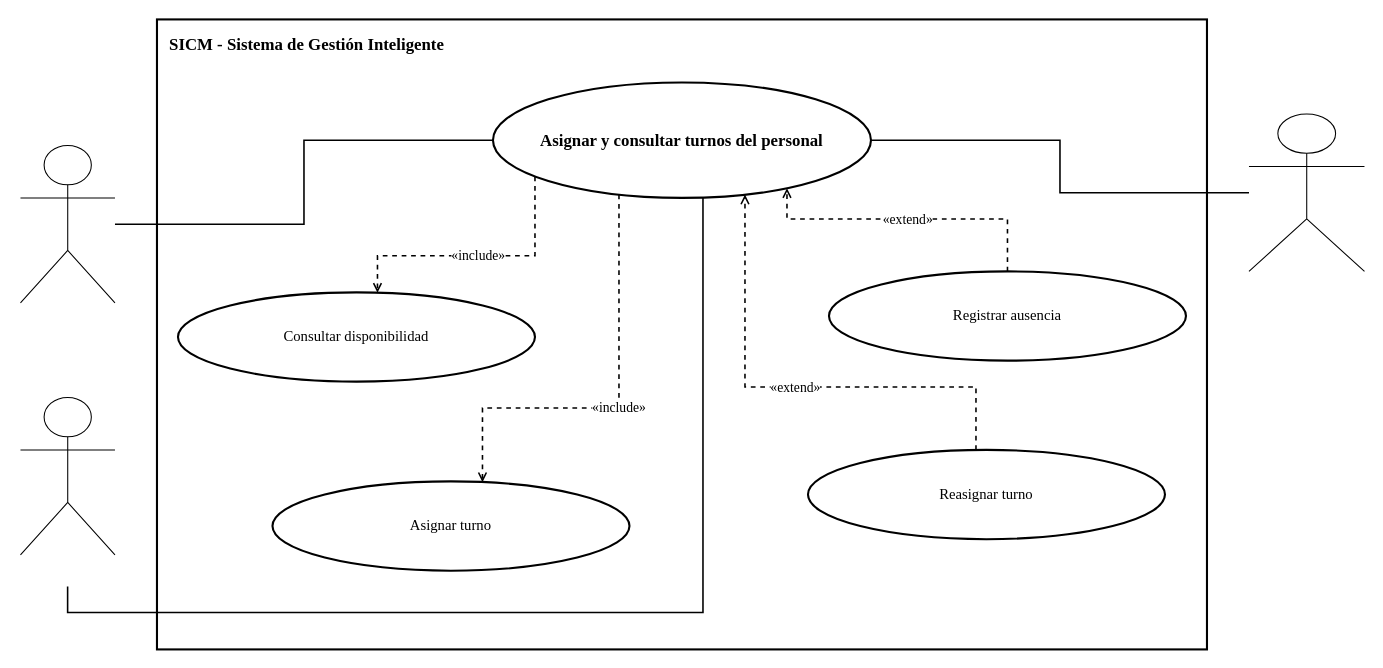
The diagram is 1383 pixels wide and 668 high, and some of its shapes have lost their labels. Here are the shapes that lost their labels. From the top down, the box of each, then its label:
(1248, 113, 1364, 271): Personal médico
(19, 144, 115, 303): Coordinador(a)
(19, 396, 115, 555): Jefatura de área
